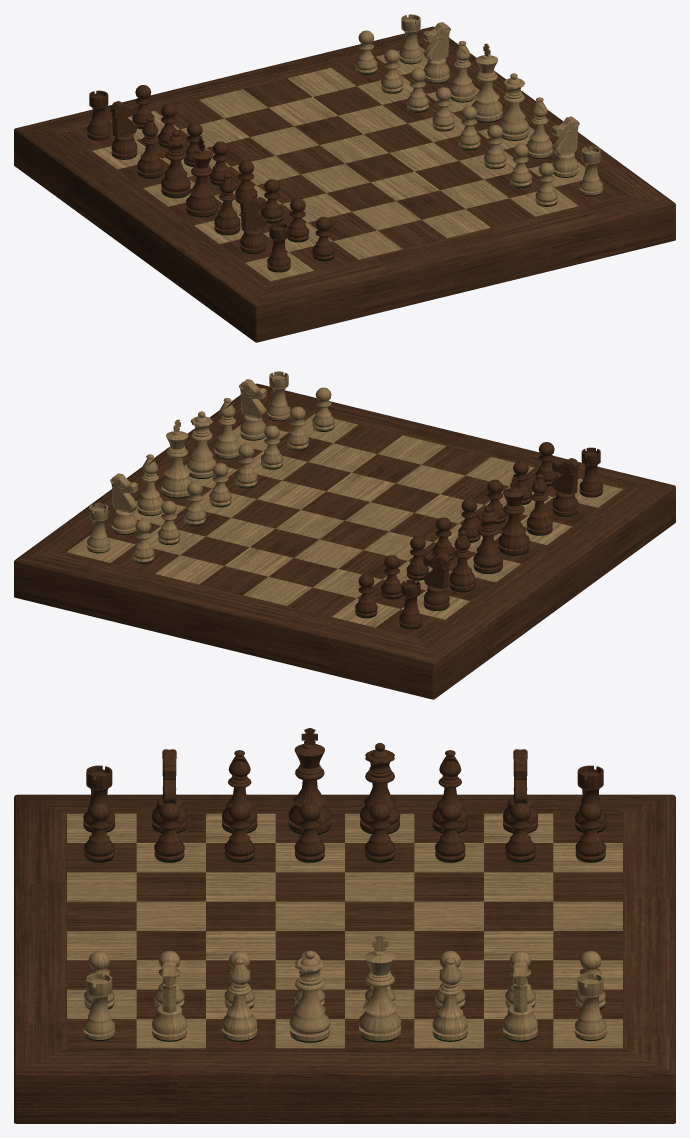
The model's file is chess1.fbx.
3 renders of one model, top to bottom at view 1: azimuth 30°, elevation 25°; view 2: azimuth 150°, elevation 25°; view 3: azimuth 270°, elevation 25°, orthographic. The views are drawn at different scales.
Visible parts, largest first — view 1: Chess_Board, King_White.001, King_White, Queen_White.001, Knight_White.001, Knight_White, Knight_White.002, Knight_White.003, Queen_White, Bishop_White.002, Bishop_White.003, Bishop_White.001 (+20 smaller); view 2: Chess_Board, King_White.001, King_White, Knight_White, Knight_White.001, Queen_White.001, Knight_White.003, Knight_White.002, Queen_White, Bishop_White.003, Bishop_White.002, Bishop_White (+21 smaller); view 3: Chess_Board, King_White, Queen_White, King_White.001, Queen_White.001, Bishop_White, Bishop_White.001, Knight_White.001, Knight_White, Rook_White, Rook_White.001, Bishop_White.002 (+17 smaller).
Boxes of the visible parts, box(x1,y1,x2,y2) form: Chess_Board: box(14, 26, 675, 342); King_White.001: box(186, 138, 217, 217); King_White: box(471, 43, 502, 122); Queen_White.001: box(161, 130, 190, 198); Knight_White.001: box(423, 22, 450, 83); Knight_White: box(552, 116, 579, 177); Knight_White.002: box(110, 101, 137, 159); Knight_White.003: box(239, 195, 266, 253); Queen_White: box(499, 73, 528, 140); Bishop_White.002: box(214, 173, 240, 235); Bishop_White.003: box(137, 117, 163, 178); Bishop_White.001: box(449, 41, 475, 102); Chess_Board: box(14, 383, 675, 699); King_White.001: box(498, 476, 529, 555); King_White: box(161, 419, 192, 498); Knight_White: box(239, 379, 266, 440); Knight_White.001: box(110, 473, 137, 534); Queen_White.001: box(473, 506, 502, 573); Knight_White.003: box(552, 458, 579, 516); Knight_White.002: box(423, 552, 450, 610); Queen_White: box(187, 411, 216, 478); Bishop_White.003: box(449, 530, 475, 592); Bishop_White.002: box(526, 474, 552, 535); Bishop_White: box(214, 398, 240, 459); Chess_Board: box(14, 794, 675, 1123); King_White: box(359, 935, 401, 1042); Queen_White: box(289, 950, 329, 1042); King_White.001: box(288, 728, 330, 834); Queen_White.001: box(359, 743, 400, 834); Bishop_White: box(222, 957, 257, 1041); Bishop_White.001: box(432, 957, 467, 1041); Knight_White.001: box(503, 962, 537, 1041); Knight_White: box(152, 962, 186, 1041); Rook_White: box(83, 973, 115, 1041); Rook_White.001: box(574, 973, 606, 1041); Bishop_White.002: box(222, 750, 257, 833).
Bounding box in the file's own units: 56.58 × 14.31 × 56.58.
